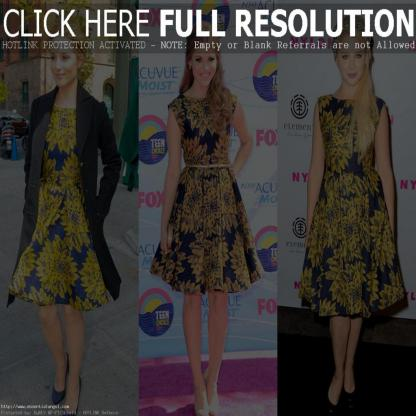face: (339, 34, 367, 86), (52, 38, 77, 89), (193, 40, 217, 88)
